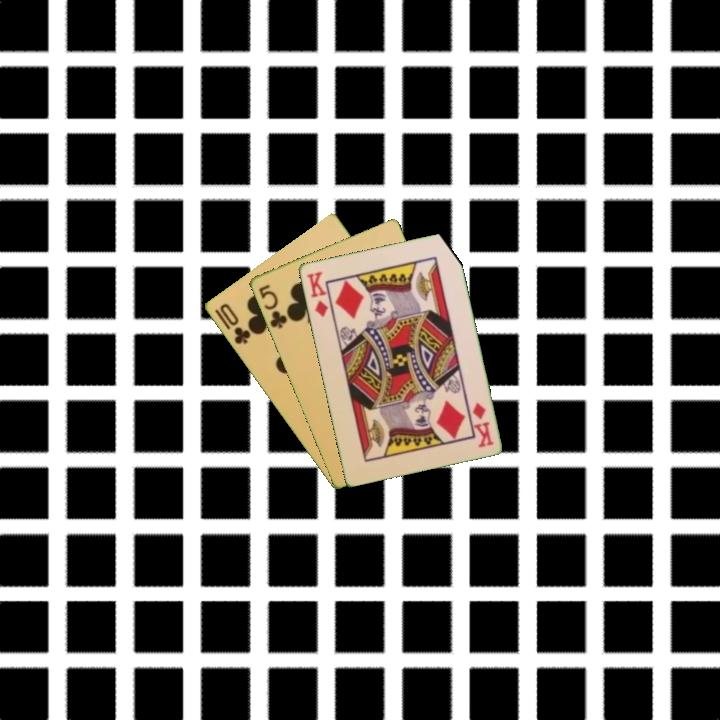10c: (216, 300, 253, 347)
5c: (255, 280, 290, 331)
Kd: (302, 268, 331, 320), (468, 399, 496, 450)
